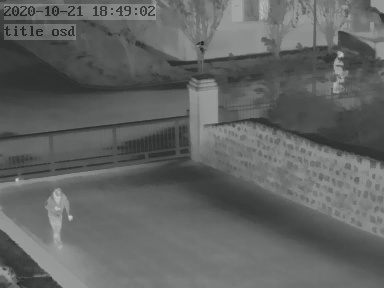person: (47, 187, 70, 243), (329, 51, 348, 94)
